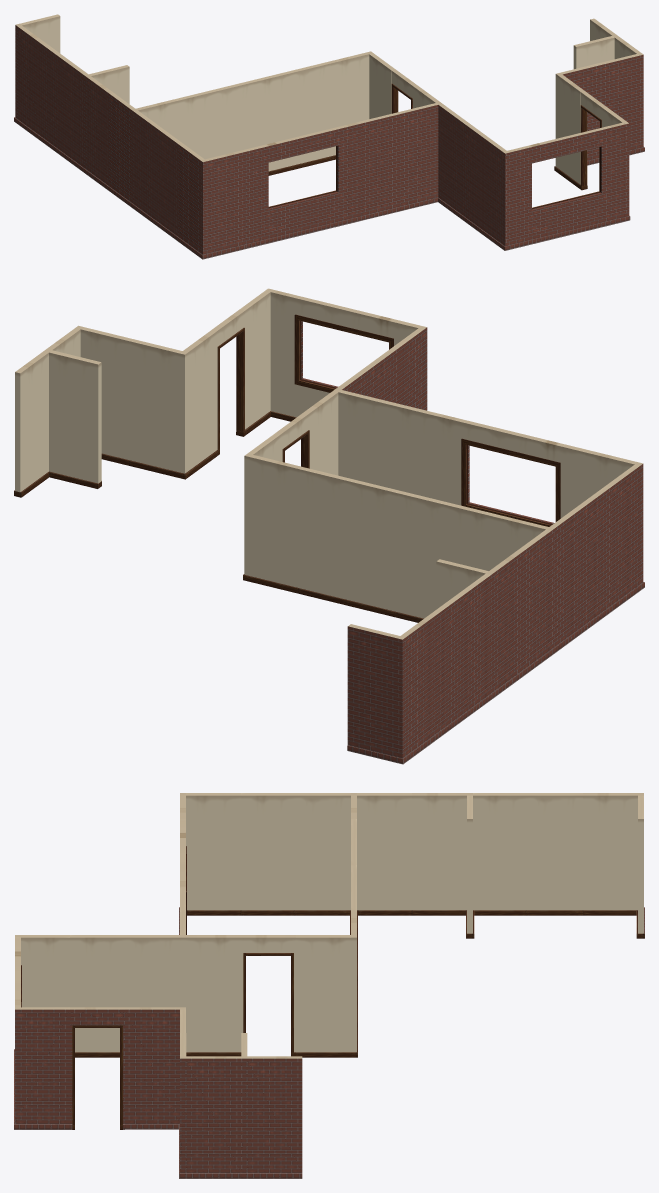
The model's file is HouseTest.fbx.
3 views of the same model, one above another, from view 1: azimuth 30°, elevation 25°; view 2: azimuth 150°, elevation 25°; view 3: azimuth 270°, elevation 25° (orthographic). The views are drawn at different scales.
Visible parts, largest first — view 1: CZ_3mWindow04; view 2: CZ_3mWindow04; view 3: CZ_3mWindow04.
Boxes of the visible parts, <box> form: CZ_3mWindow04: <box>14,14,644,259</box>; CZ_3mWindow04: <box>14,288,644,764</box>; CZ_3mWindow04: <box>14,793,644,1178</box>.
Size of the model in its own units: 11.47 by 2.4 by 11.47.
Materials: 2 (2 with a texture image).
